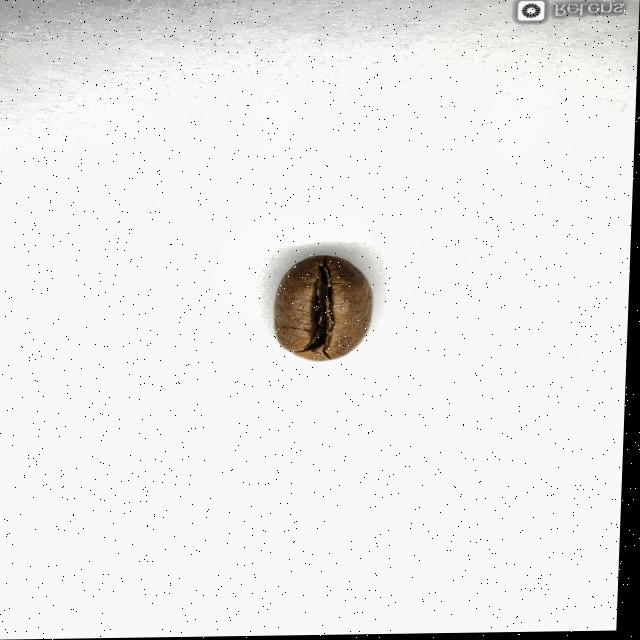Good bean: (273, 256, 377, 364)
